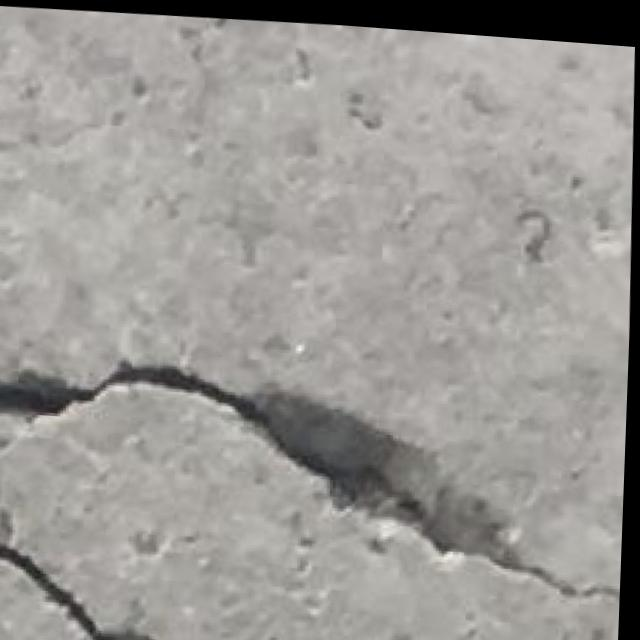Crack: (0, 325, 623, 606), (0, 519, 165, 640)
